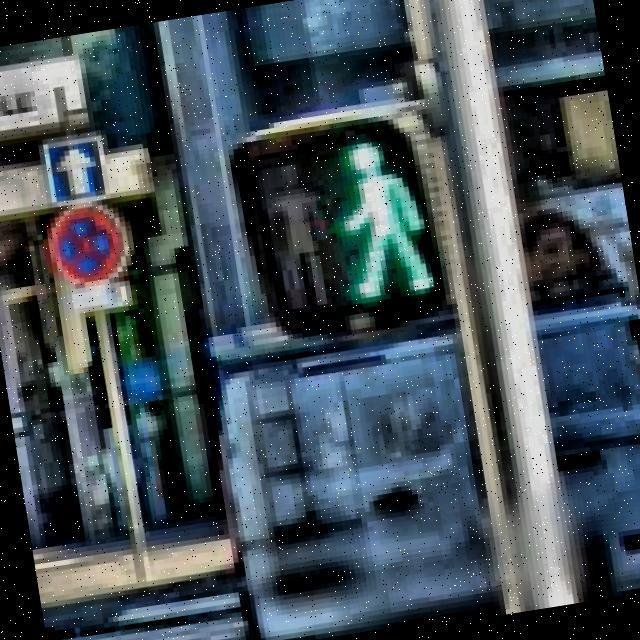green_light: (316, 124, 441, 306)
